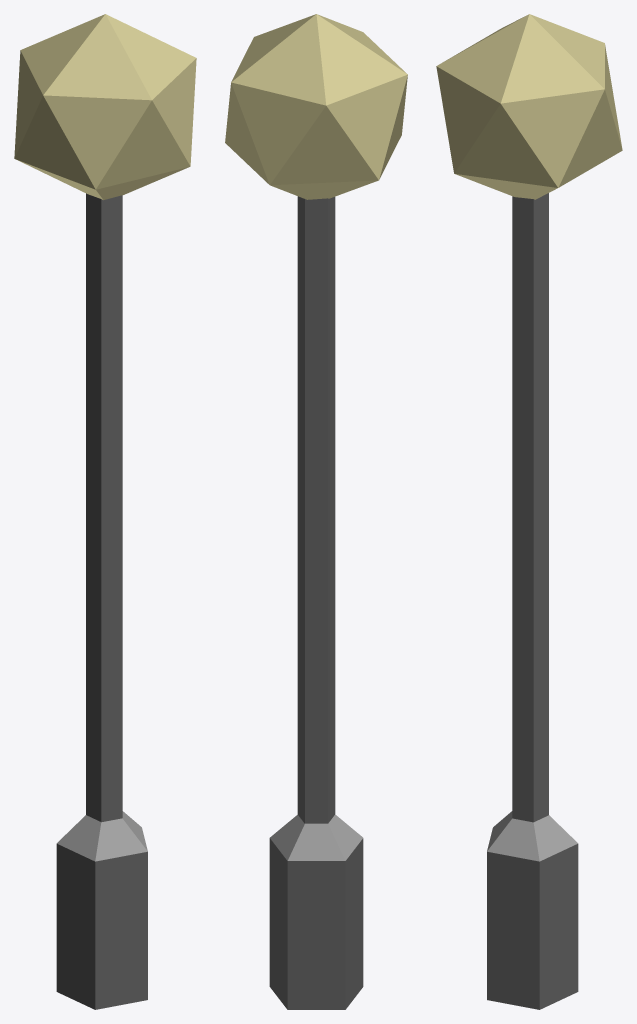
File: pillar_008.fbx
3 renders of one model, left to right at view 1: azimuth 30°, elevation 25°; view 2: azimuth 150°, elevation 25°; view 3: azimuth 270°, elevation 25°, orthographic.
Parts seen in each view (by area): view 1: pillar_008; view 2: pillar_008; view 3: pillar_008.
Part boxes in pixels (bbox=[...]): pillar_008: bbox=[14, 14, 196, 1009]; pillar_008: bbox=[225, 14, 407, 1009]; pillar_008: bbox=[436, 14, 622, 1009].
Size of the model in its own units: 47.04 by 286 by 49.46.
